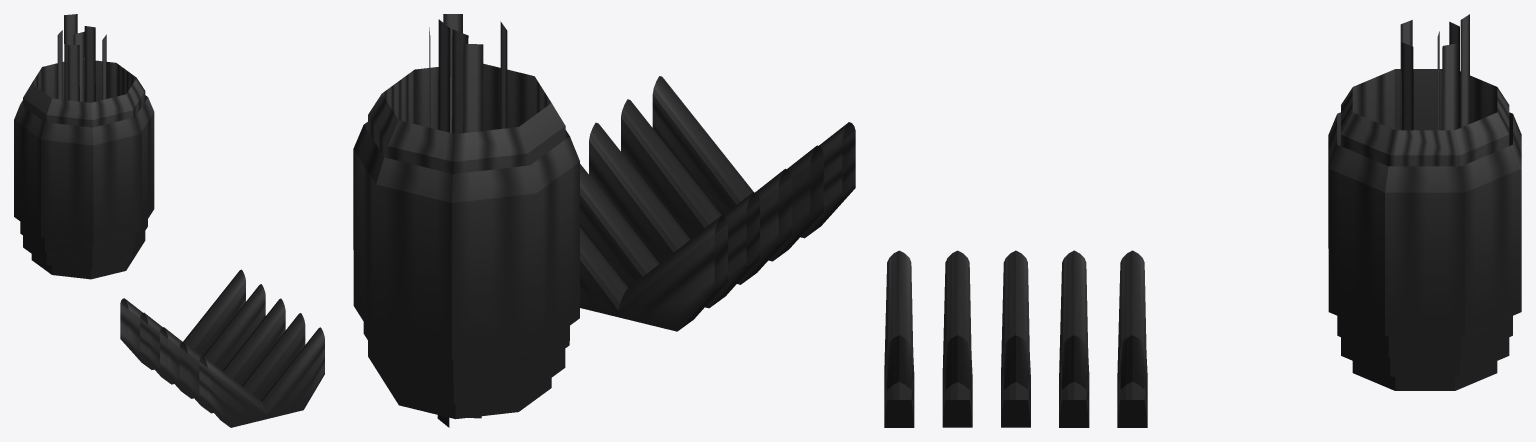
The model's file is LightEffect.obj.
3 renders of one model, left to right at view 1: azimuth 30°, elevation 25°; view 2: azimuth 150°, elevation 25°; view 3: azimuth 270°, elevation 25°, orthographic. The views are drawn at different scales.
Visible parts, largest first — view 1: n0b1, n1b0; view 2: n0b1, n1b0; view 3: n0b1, n1b0.
Part boxes in pixels (bbox=[...]): n0b1: bbox=[14, 59, 324, 427]; n1b0: bbox=[57, 14, 106, 102]; n0b1: bbox=[353, 63, 855, 419]; n1b0: bbox=[429, 14, 507, 427]; n0b1: bbox=[884, 69, 1521, 427]; n1b0: bbox=[1400, 14, 1469, 130].
Size of the model in its own units: 0.4121 by 0.8755 by 1.31.
Materials: 2 (2 with a texture image).
